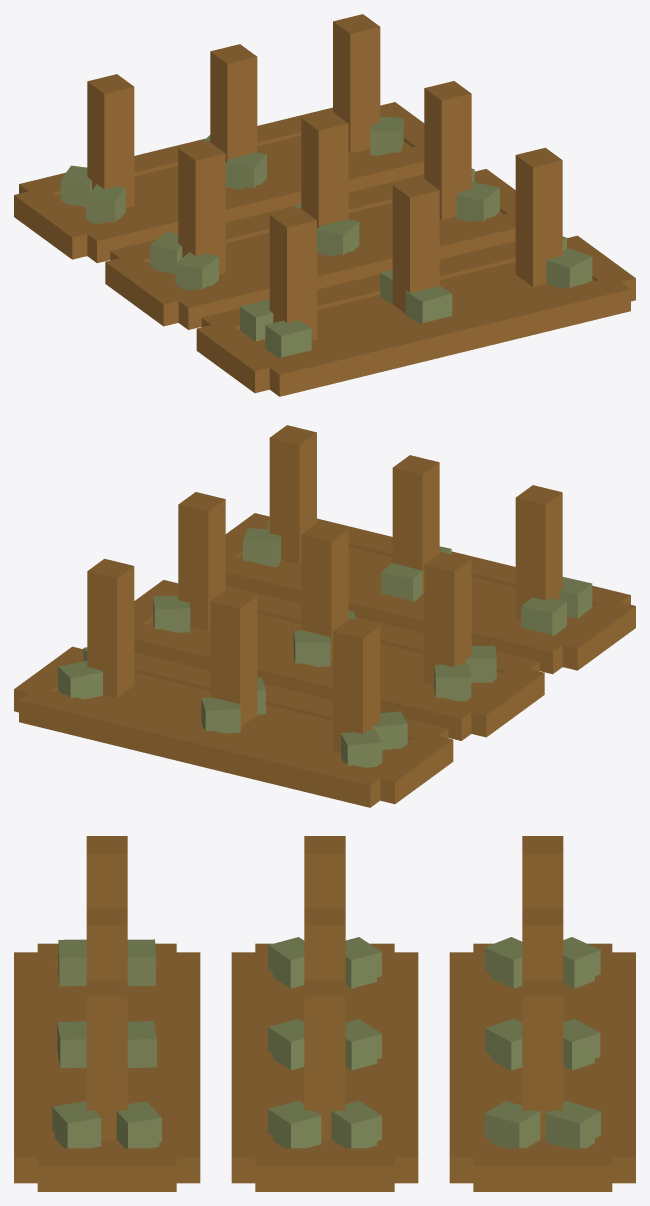
File: SM_Bancales_v3_Tomateras_LOD1.fbx
3 views of the same model, one above another, from view 1: azimuth 30°, elevation 25°; view 2: azimuth 150°, elevation 25°; view 3: azimuth 270°, elevation 25° (orthographic). The views are drawn at different scales.
Visible parts, largest first — view 1: SM_vida_fuerte_v13_LOD1; view 2: SM_vida_fuerte_v13_LOD1; view 3: SM_vida_fuerte_v13_LOD1.
Part boxes in pixels (x1,y1,x2,y2): SM_vida_fuerte_v13_LOD1: (14, 14, 635, 396); SM_vida_fuerte_v13_LOD1: (14, 425, 635, 807); SM_vida_fuerte_v13_LOD1: (14, 836, 635, 1191).
Bounding box in the file's own units: 4.34 × 1.5 × 5.14.
